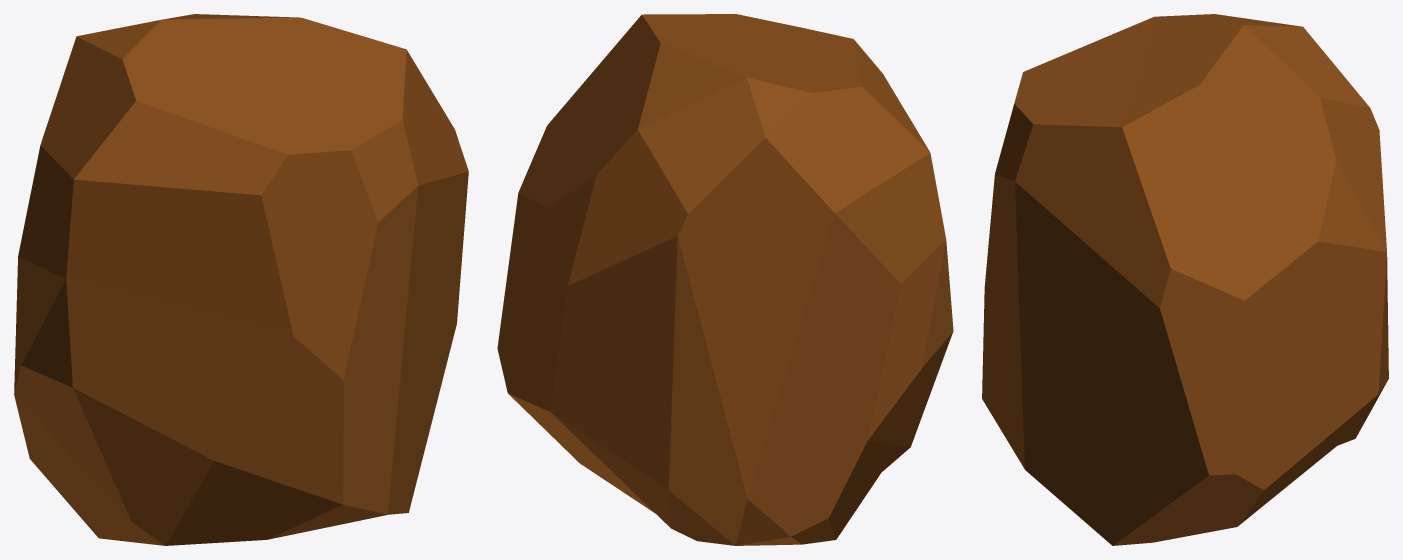
The model's file is HardRock_34.fbx.
3 renders of one model, left to right at view 1: azimuth 30°, elevation 25°; view 2: azimuth 150°, elevation 25°; view 3: azimuth 270°, elevation 25°, orthographic. The views are drawn at different scales.
Parts seen in each view (by area): view 1: HardRock_34; view 2: HardRock_34; view 3: HardRock_34.
Boxes of the visible parts, x1,y1,x2,y2 form: HardRock_34: [14, 14, 468, 545]; HardRock_34: [497, 14, 953, 545]; HardRock_34: [982, 14, 1388, 545].
Size of the model in its own units: 72.78 by 77.53 by 63.67.
